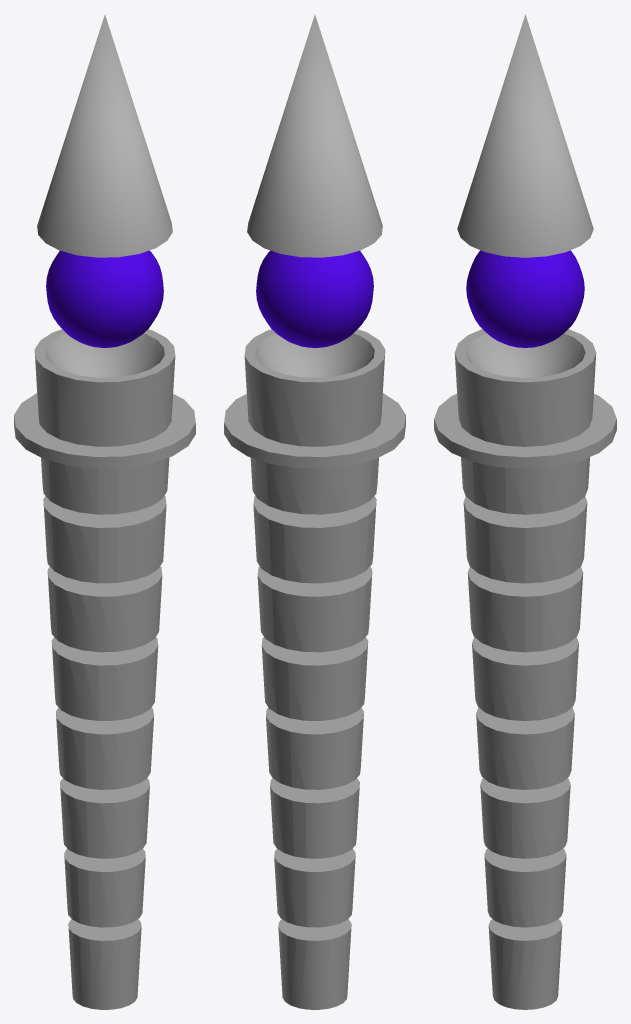
Rendered from Connections Brush.fbx.
3 views of the same model, side by side, from view 1: azimuth 30°, elevation 25°; view 2: azimuth 150°, elevation 25°; view 3: azimuth 270°, elevation 25° (orthographic).
Parts seen in each view (by area): view 1: Pen; view 2: Pen; view 3: Pen.
Boxes of the visible parts, <box> form: Pen: <box>14,15,195,1009</box>; Pen: <box>224,15,405,1009</box>; Pen: <box>434,14,616,1009</box>.
Size of the model in its own units: 1.69 by 10.04 by 1.69.
